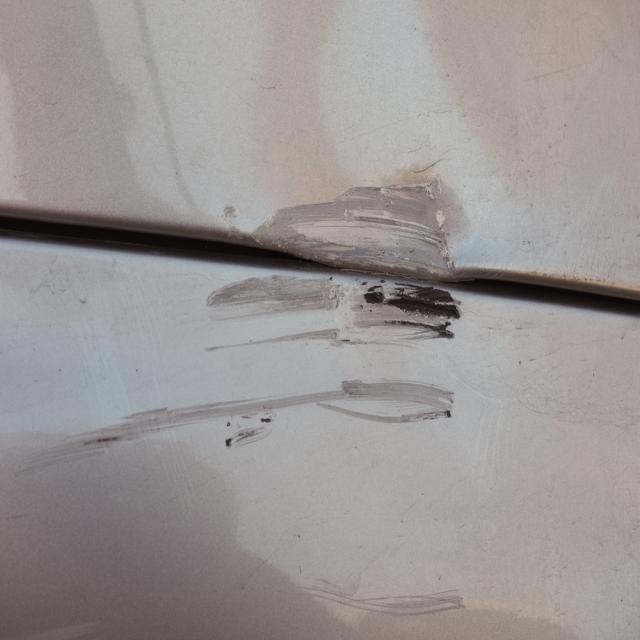scratch: (20, 273, 468, 626), (228, 172, 462, 284)
